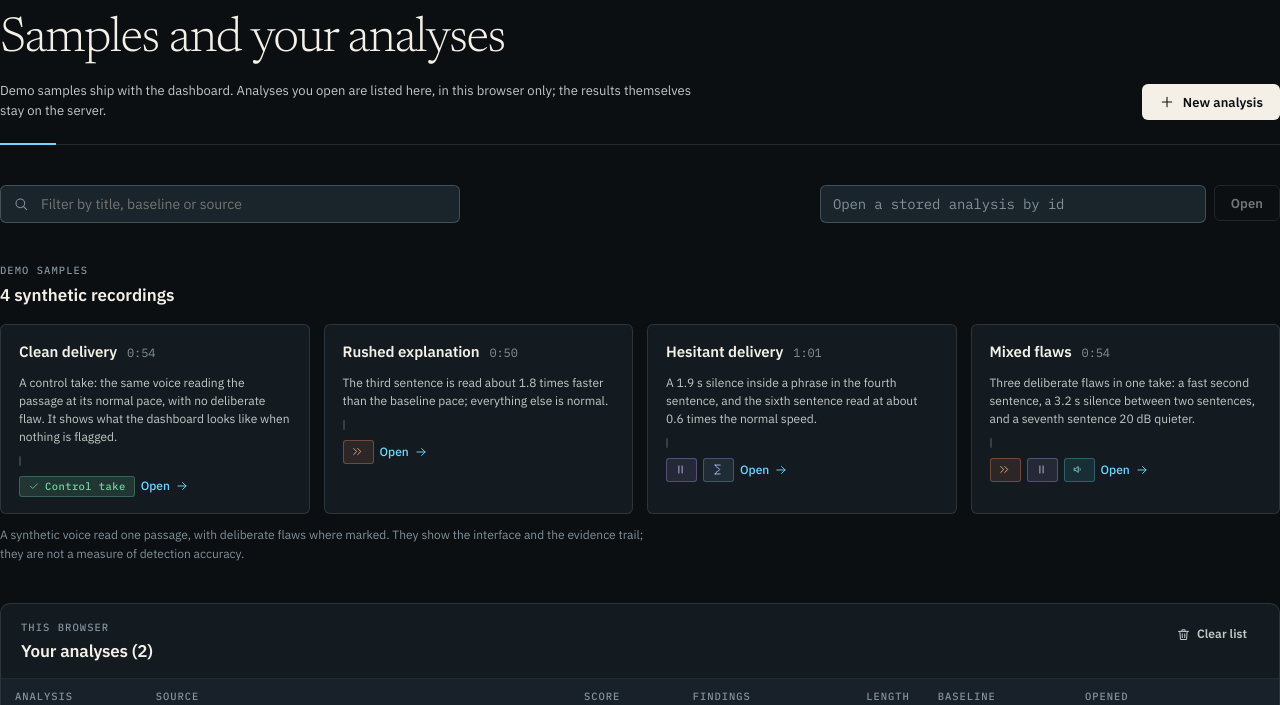
Test: LibraryPage › lists opened analyses, filters them, and removes one
Type "alpha" into the search field named "Filter the library" at (243, 204), box [39,193,447,216]
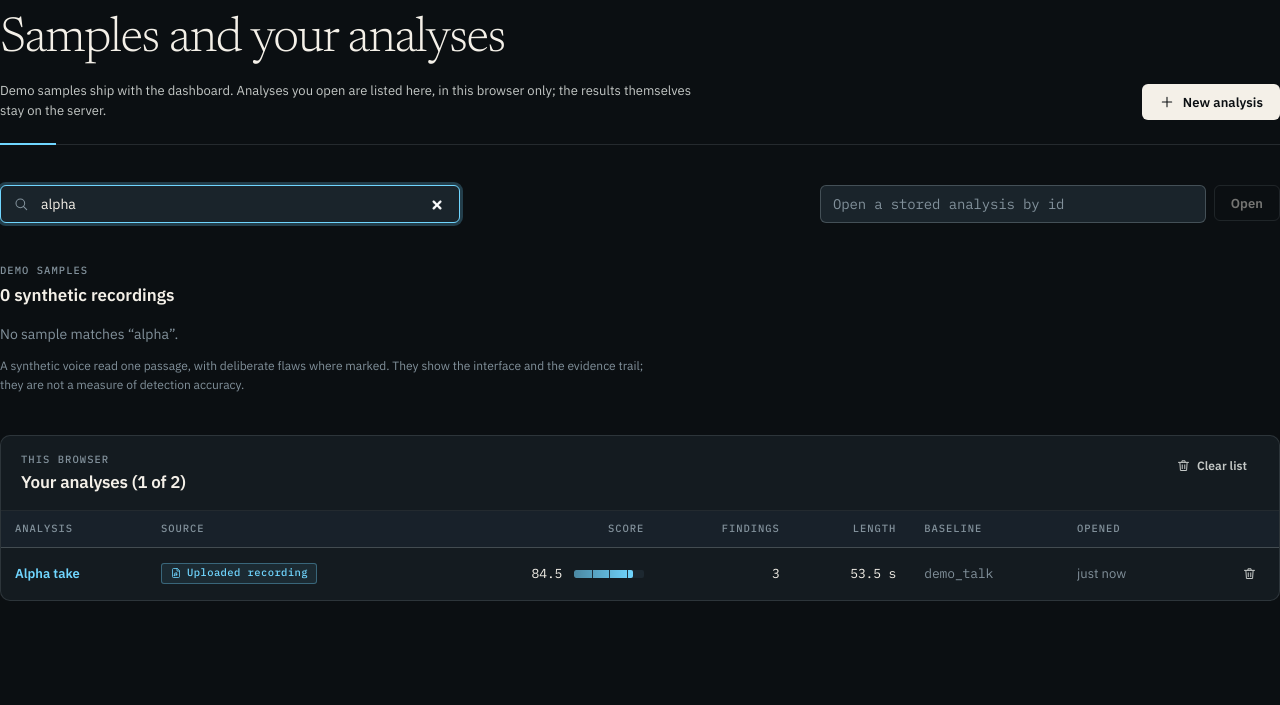
Expected: the table with class "table" shows "Alpha take", [15,564,80,583]
Clear the search field named "Filter the library" at (243, 204), box [39,193,447,216]
(page scrolled)
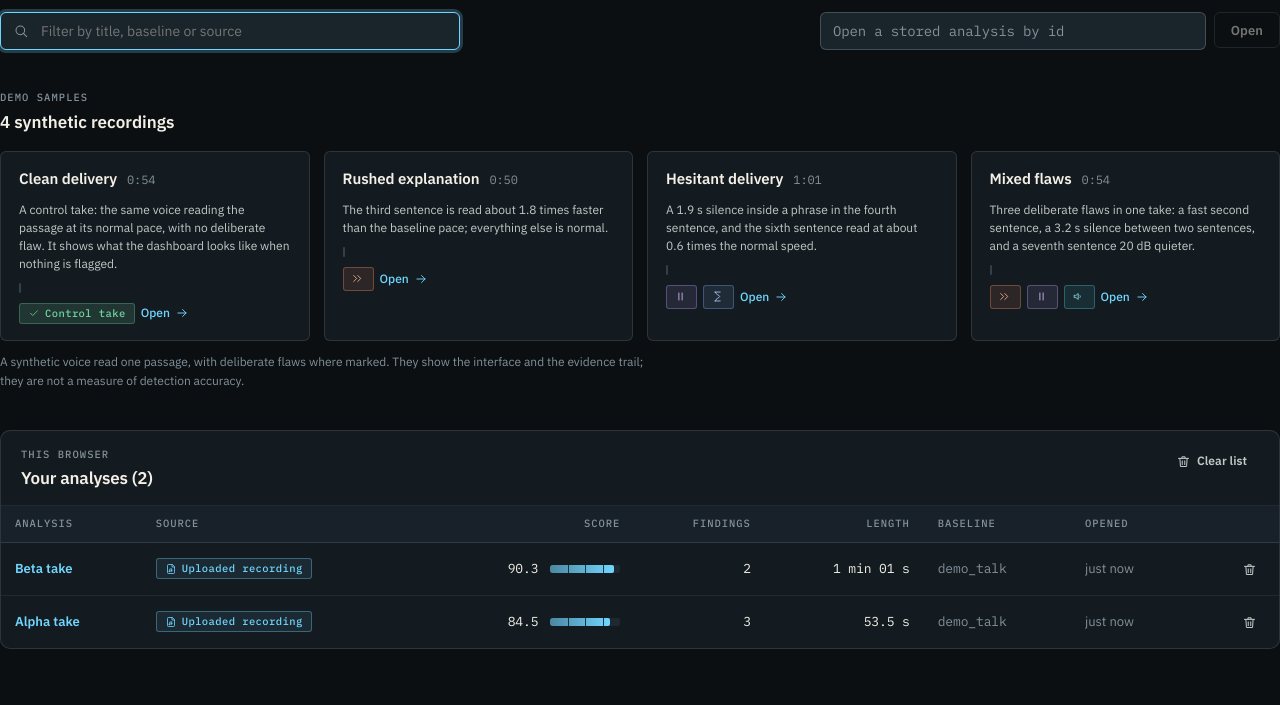
Click the button named "Remove Alpha take from this list" at (1249, 622), box [1233,606,1265,638]
(page scrolled)
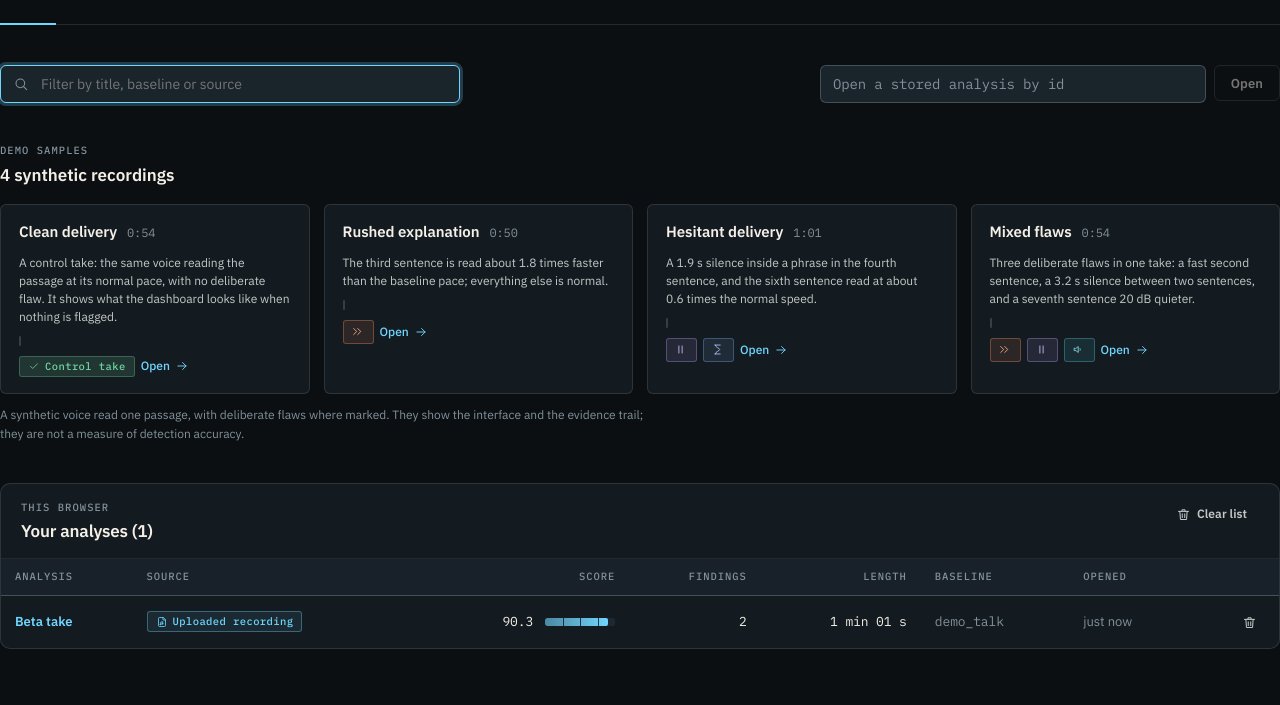
Expected: the button with class "table" no longer shows "Alpha take"
